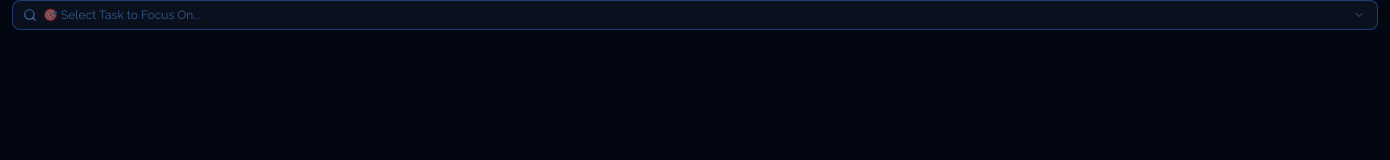
Test: TimerTaskSearch › filters options in real-time when searching by keyword in title or notes
The image size is (1390, 160).
Type query matching task 2 notes ("version")
In the dropdown: [694, 15] box [43, 7, 1345, 23], type "version"
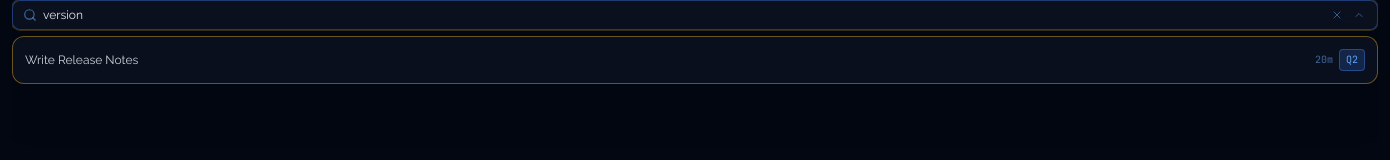
expect the list is shown: met, box [12, 36, 1378, 84]
expect the text "Write Release Notes" is shown: met, box [25, 53, 138, 67]
